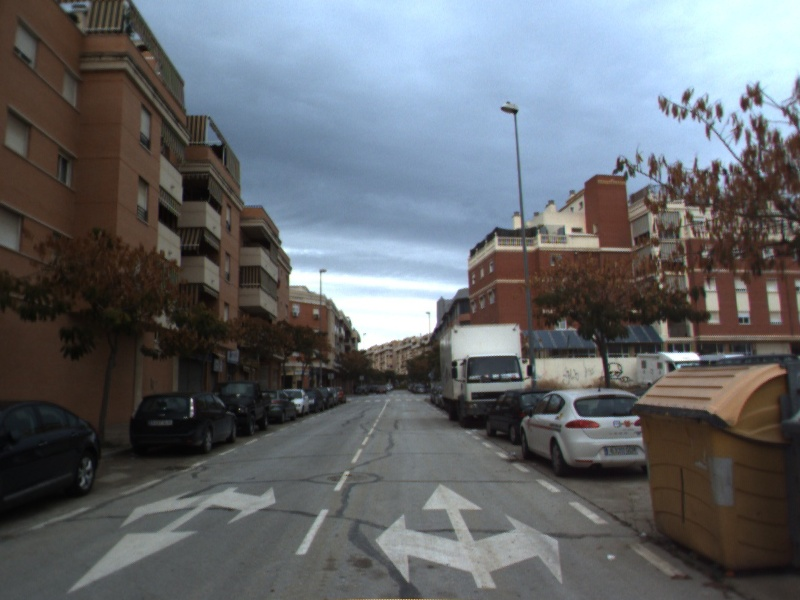STRAIGHT_LEFT_RIGHT: (372, 478, 564, 591)
